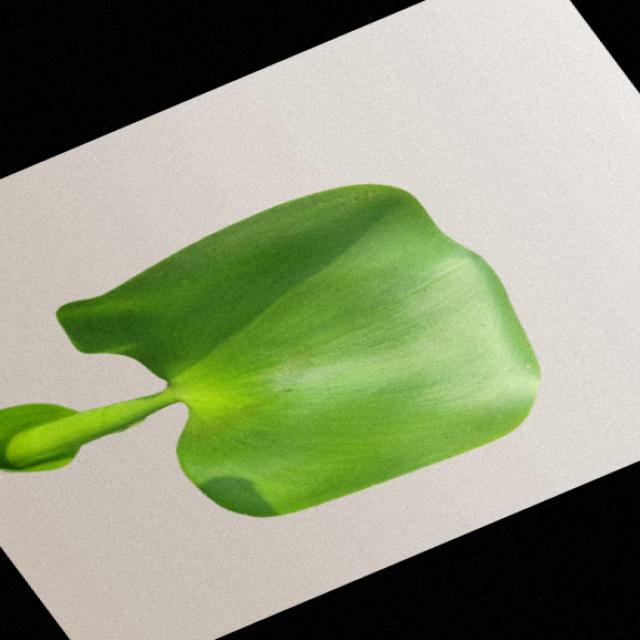daun sehat: (2, 186, 538, 516)
